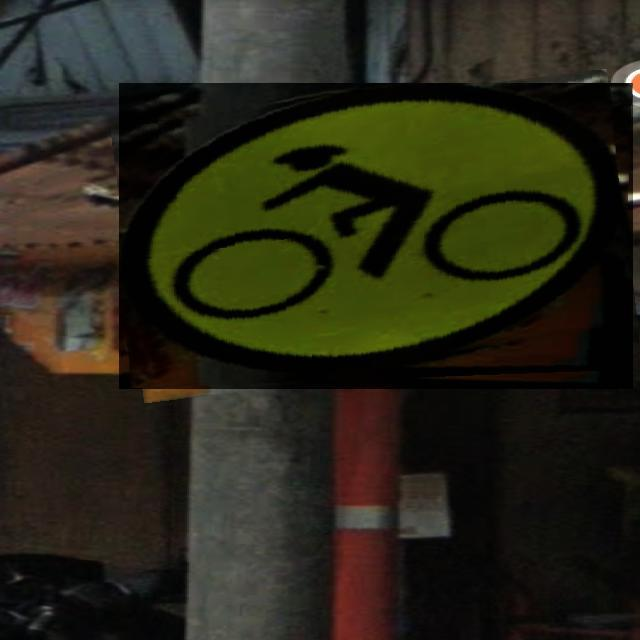bike lane: (119, 83, 633, 389)
